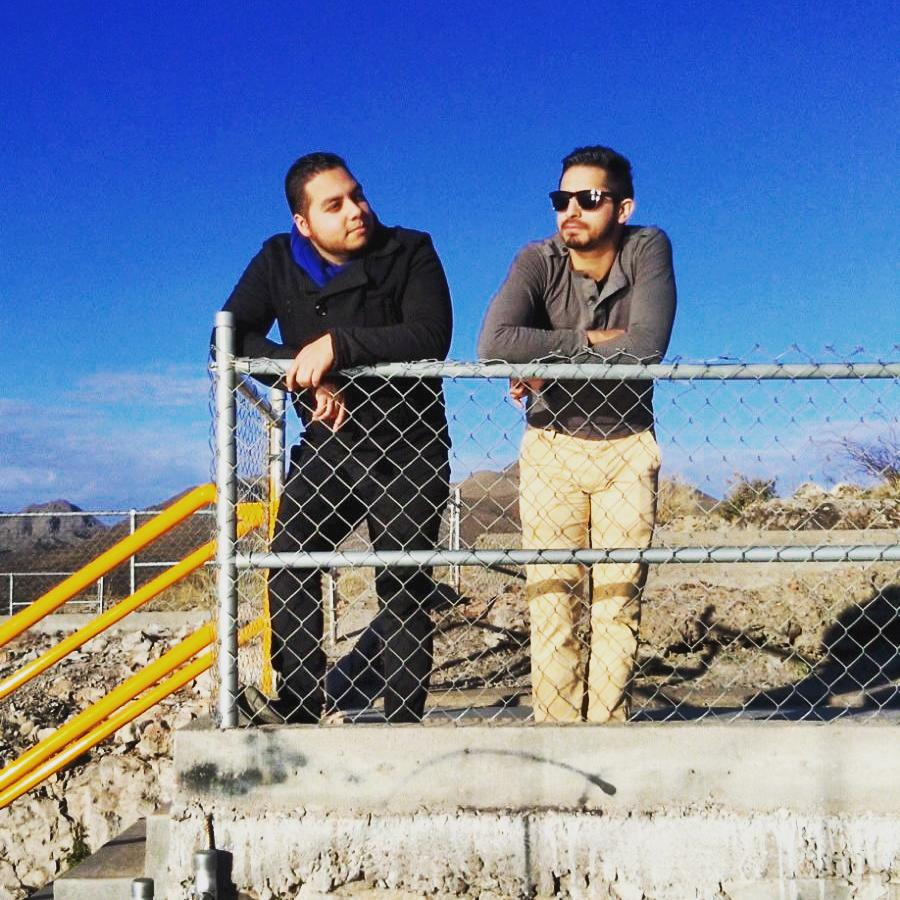Yoshi: (251, 134, 444, 362)
